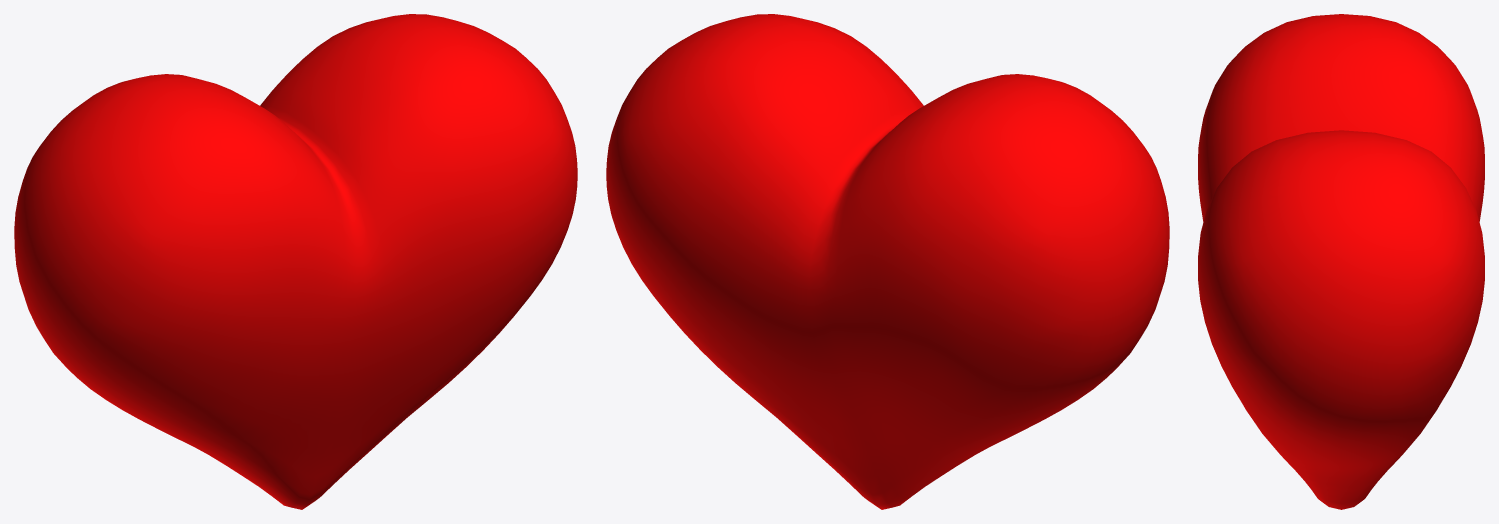
File: heart.glb
The picture shows the model from 3 angles, left to right: view 1: azimuth 30°, elevation 25°; view 2: azimuth 150°, elevation 25°; view 3: azimuth 270°, elevation 25°; orthographic projection. The views are drawn at different scales.
Visible parts, largest first — view 1: Cube; view 2: Cube; view 3: Cube.
Part boxes in pixels (x1,y1,x2,y2): Cube: (14,14,577,509); Cube: (606,14,1169,509); Cube: (1198,14,1484,509).
Bounding box in the file's own units: 285 × 233 × 143.
